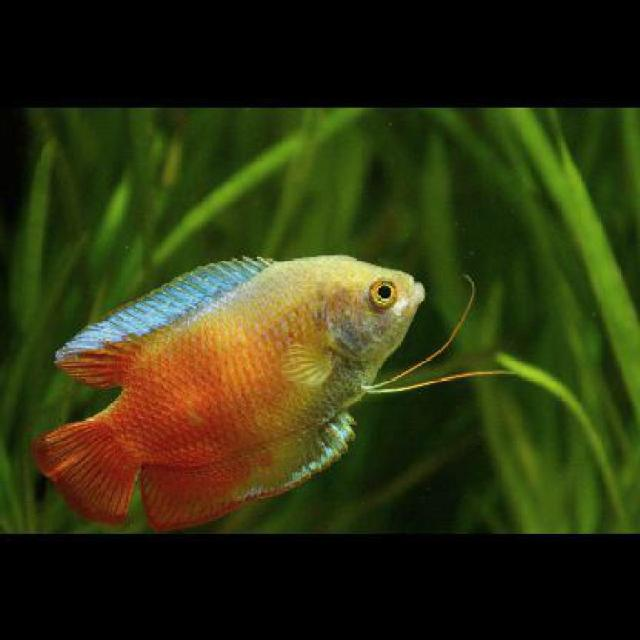Gourami: (28, 252, 424, 532)
